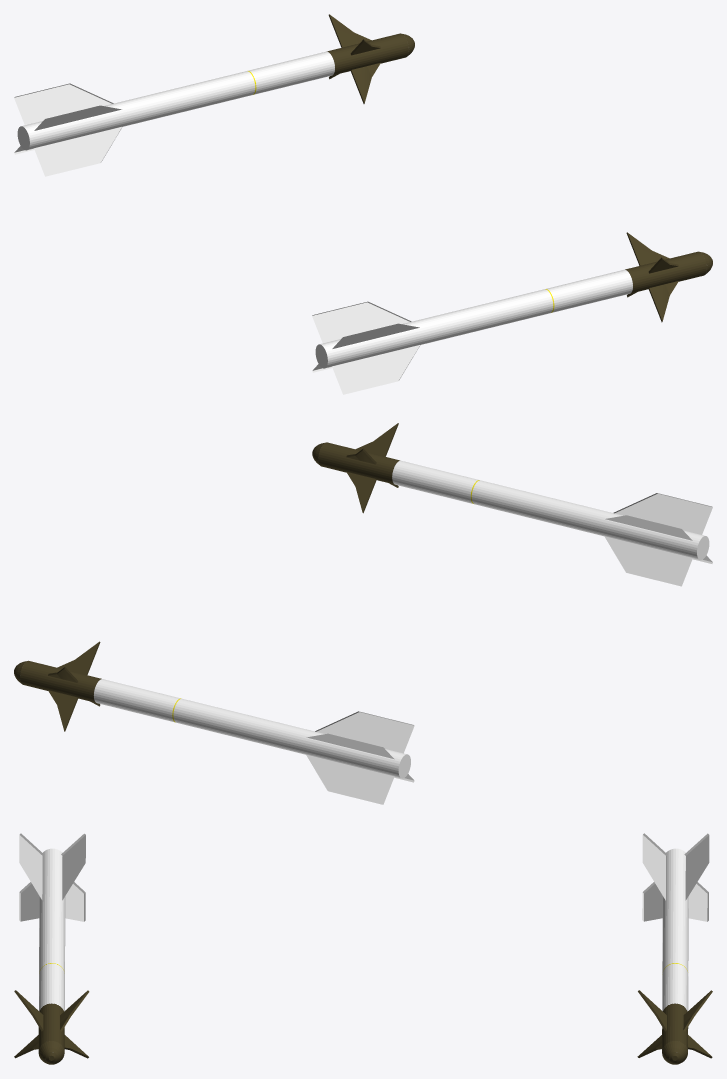
Rendered from f5faim934.glb.
The picture shows the model from 3 angles, top to bottom: view 1: azimuth 30°, elevation 25°; view 2: azimuth 150°, elevation 25°; view 3: azimuth 270°, elevation 25°; orthographic projection. The views are drawn at different scales.
Parts seen in each view (by area): view 1: 円柱.008, 円柱.006; view 2: 円柱.006, 円柱.008; view 3: 円柱.008, 円柱.006.
Boxes of the visible parts, <box> form: 円柱.008: <box>14,14,414,176</box>; 円柱.006: <box>312,232,712,394</box>; 円柱.006: <box>312,423,712,586</box>; 円柱.008: <box>14,641,414,804</box>; 円柱.008: <box>637,833,712,1064</box>; 円柱.006: <box>14,833,89,1064</box>.
Bounding box in the file's own units: 3.38 × 0.543 × 5.02.
2 materials, 2 textured.
